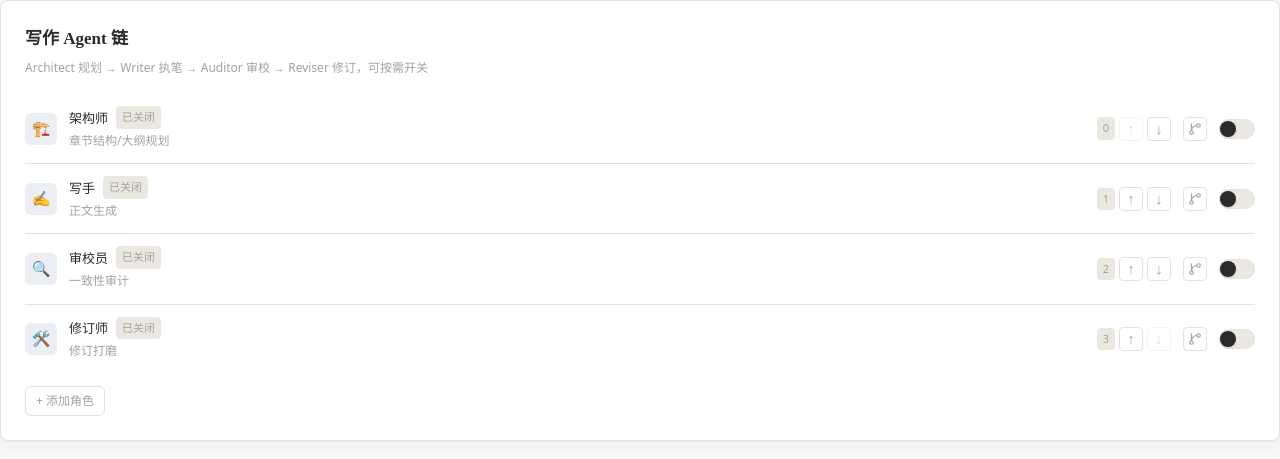
Test: AgentChainCard — F42 模型选择（spec §5.2） › 打开 Architect → Select 出现；「跟随默认」置顶 + provider/model 选项（chat 扁平）
The width and height of the screenshot is (1280, 459).
Click the switch named "架构师" at (1237, 129), box [1219,119,1255,139]
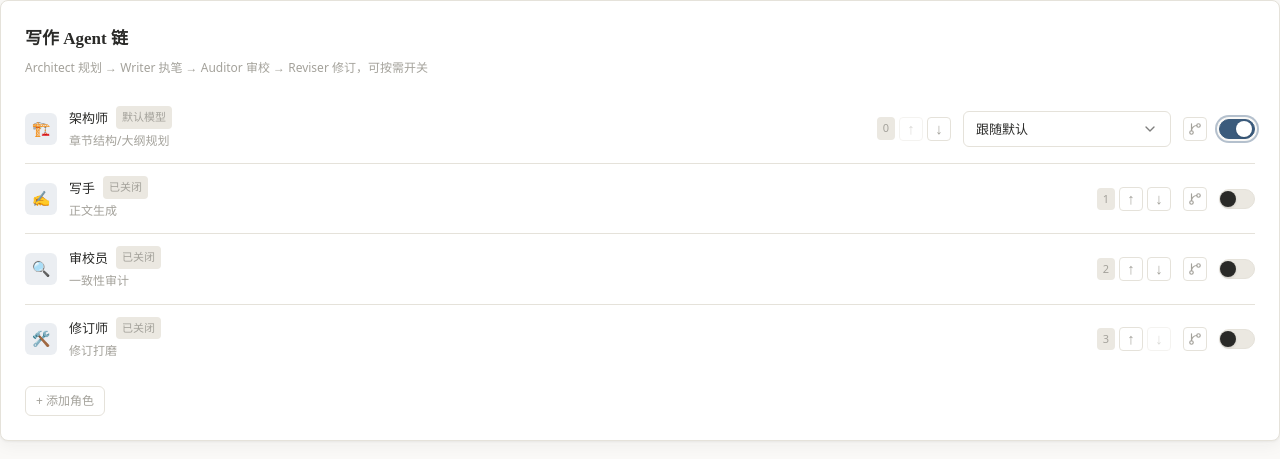
Now the dropdown with test id "agent-model-select-agent_architect" is shown
Note: 打开 Select → 选项：跟随默认（置顶，值 sentinel）+ openai/gpt-4o + zhipu/glm-4.5 + ollama/qwen3
Click the dropdown with test id "agent-model-select-agent_architect" at (1067, 129), box [963,111,1171,147]
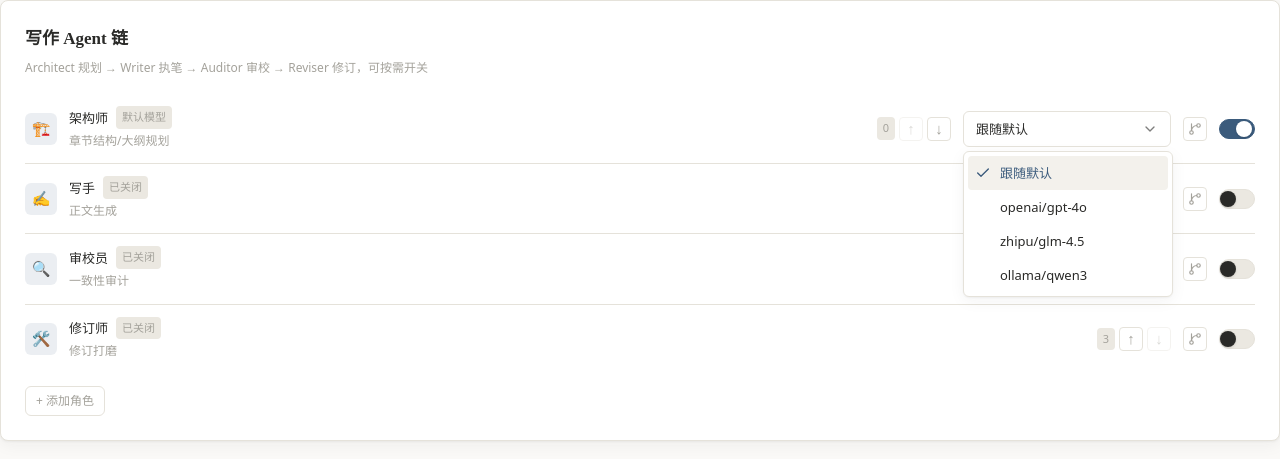
Now the option "跟随默认" is shown, box [968,156,1168,190]
Now the option "openai/gpt-4o" is shown, box [1000,198,1087,216]
Now the option "zhipu/glm-4.5" is shown, box [1000,232,1084,250]
